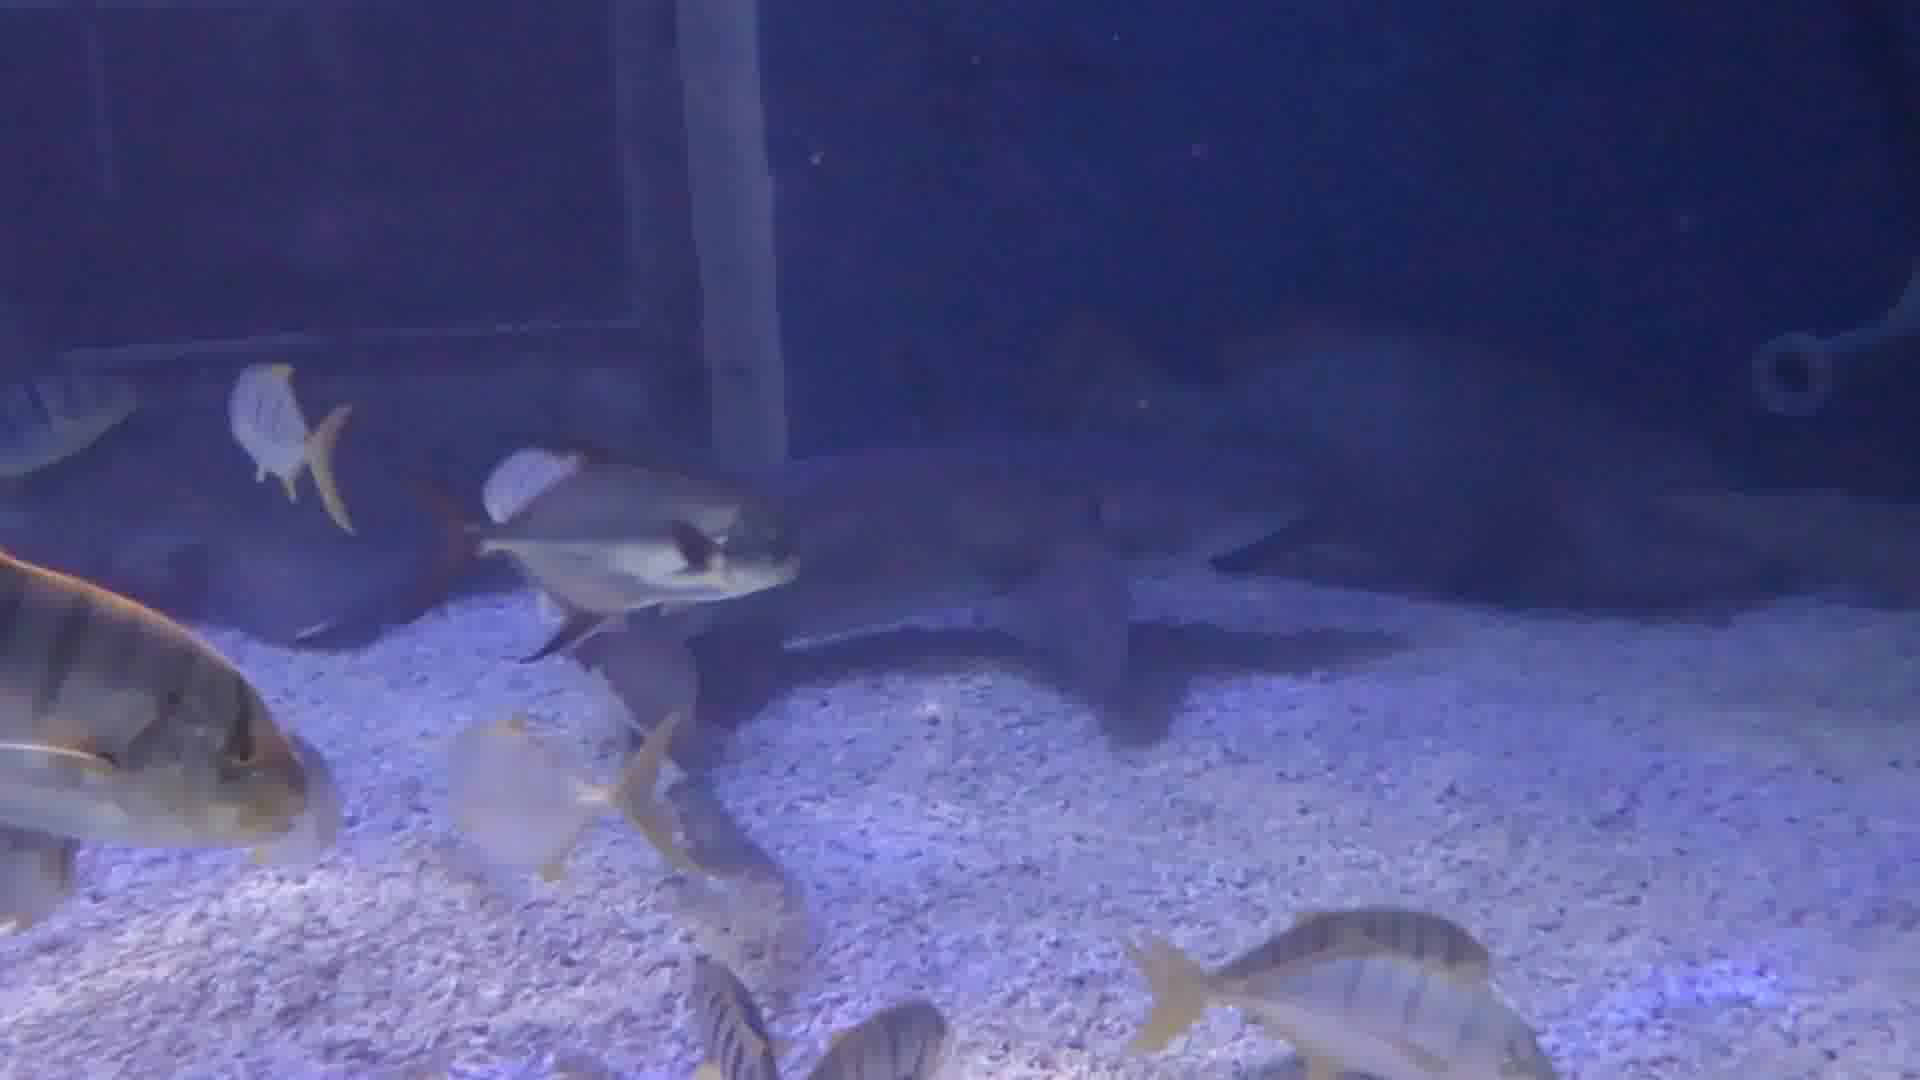Nebrius ferrugineus: (756, 392, 1282, 661)
